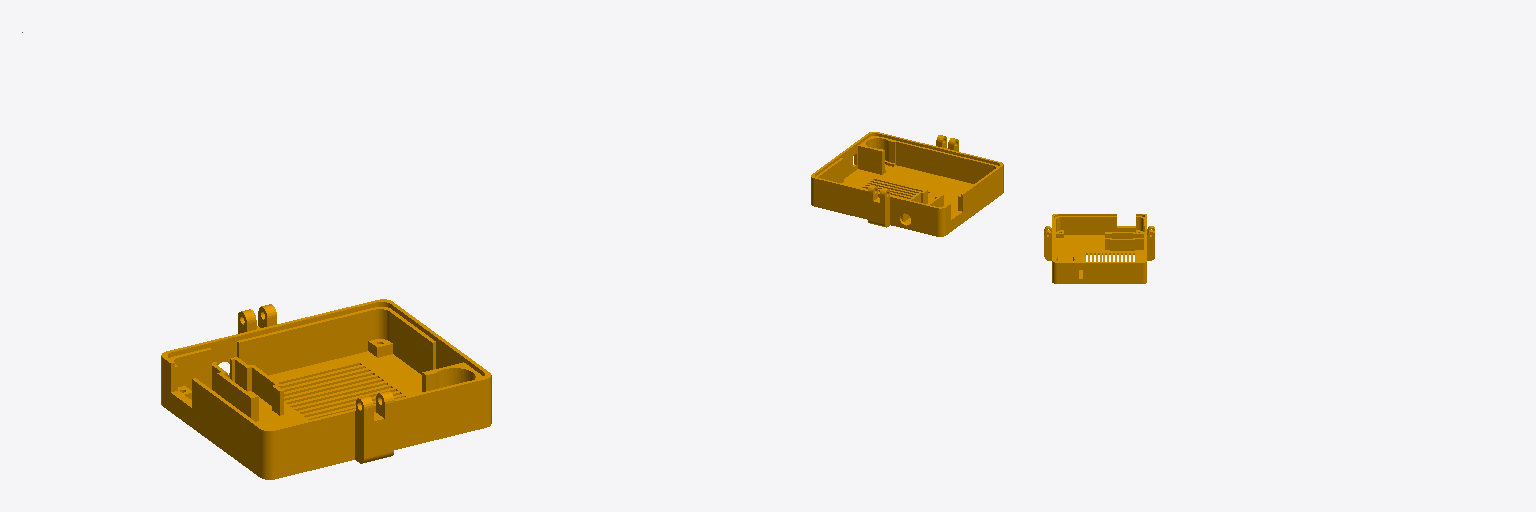
URDF robot description (centrifuge):
<robot name="centrifuge">
    <link name="base_footprint">
        <visual>
            <geometry>
                <mesh filename="meshes/V2_Body.stl"/>
            </geometry>
        </visual>
        <inertial>
            <origin
                xyz="0 0 0"
                rpy="0 0 0" />
            <mass value="0.1" />
            <inertia
                ixx="1"
                ixy="0"
                ixz="0"
                iyy="1"
                iyz="0"
                izz="1" />
        </inertial>
    </link>

    <link name="bookcase">
        <visual>
            <geometry>
                <mesh filename="bookcase.stl"/>
            </geometry>
        </visual>
        <collision>
            <geometry>
                <mesh filename="bookcase.stl"/>
            </geometry>
        </collision>
    </link>

    # Copied from wheels.urdf.
    <link name="r_wheel_link">
        <collision>
          <origin xyz="-0.0 -0.0025 0.0" />
          <geometry>
            <box size="0.04 0.005 0.48" />
          </geometry>
        </collision>
        <visual>
          <origin xyz="-0.0 -0.0025 0.0" />
          <material name="c">
            <color rgba="0.7 0.7 0.7 1.0" />
          </material>
          <geometry>
            <box size="0.04 0.005 0.48" />
          </geometry>
        </visual>
        <collision>
          <origin xyz="0.0 0.015 0.19625" />
          <geometry>
            <box size="0.02 0.03 0.0025" />
          </geometry>
        </collision>
        <visual>
          <origin xyz="0.0 0.015 0.19625" />
          <material name="c">
            <color rgba="0.7 0.7 0.7 1.0" />
          </material>
          <geometry>
            <box size="0.02 0.03 0.0025" />
          </geometry>
        </visual>
        <collision>
          <origin xyz="0.0 0.015 -0.19625" />
          <geometry>
            <box size="0.02 0.03 0.0025" />
          </geometry>
        </collision>
        <visual>
          <origin xyz="0.0 0.015 -0.19625" />
          <material name="c">
            <color rgba="0.7 0.7 0.7 1.0" />
          </material>
          <geometry>
            <box size="0.02 0.03 0.0025" />
          </geometry>
        </visual>
        <collision>
          <origin xyz="0.0 -0.0125 0.22" />
          <geometry>
            <cylinder length="0.015" radius="0.02" />
          </geometry>
        </collision>
        <visual>
          <origin xyz="0.0 -0.0125 0.22" />
          <material name="c">
            <color rgba="0.7 0.7 0.7 1.0" />
          </material>
          <geometry>
            <cylinder length="0.015" radius="0.02" />
          </geometry>
        </visual>
        <collision>
          <origin xyz="0.0 -0.0125 -0.22" />
          <geometry>
            <cylinder length="0.015" radius="0.02" />
          </geometry>
        </collision>
        <visual>
          <origin xyz="0.0 -0.0125 -0.22" />
          <material name="c">
            <color rgba="0.7 0.7 0.7 1.0" />
          </material>
          <geometry>
            <cylinder length="0.015" radius="0.02" />
          </geometry>
        </visual>
        <collision>
          <origin xyz="0.0 -0.075 -0.24" />
          <geometry>
            <cylinder length="0.026" radius="0.035" />
          </geometry>
        </collision>
        <visual>
          <origin xyz="0.0 -0.075 -0.24" />
          <material name="c2">
            <color rgba="1.0 1.0 1.0 1.0" />
          </material>
          <geometry>
            <cylinder length="0.026" radius="0.035" />
          </geometry>
        </visual>
        <collision>
          <origin xyz="0.0 -0.075 -0.24" />
          <geometry>
            <cylinder length="0.025" radius="0.0375" />
          </geometry>
        </collision>
        <visual>
          <origin xyz="0.0 -0.075 -0.24" />
          <material name="c3">
            <color rgba="0.5 0.5 0.5 1.0" />
          </material>
          <geometry>
            <cylinder length="0.025" radius="0.0375" />
          </geometry>
        </visual>
        <collision>
          <origin xyz="0.0 -0.045 -0.22" />
          <geometry>
            <box size="0.03 0.05 0.05" />
          </geometry>
        </collision>
        <visual>
          <origin xyz="0.0 -0.045 -0.22" />
          <material name="c">
            <color rgba="0.7 0.7 0.7 1.0" />
          </material>
          <geometry>
            <box size="0.03 0.05 0.05" />
          </geometry>
        </visual>
        <collision>
          <origin xyz="0.0 -0.075 0.24" />
          <geometry>
            <cylinder length="0.026" radius="0.035" />
          </geometry>
        </collision>
        <visual>
          <origin xyz="0.0 -0.075 0.24" />
          <material name="c2">
            <color rgba="1.0 1.0 1.0 1.0" />
          </material>
          <geometry>
            <cylinder length="0.026" radius="0.035" />
          </geometry>
        </visual>
        <collision>
          <origin xyz="0.0 -0.075 0.24" />
          <geometry>
            <cylinder length="0.025" radius="0.0375" />
          </geometry>
        </collision>
        <visual>
          <origin xyz="0.0 -0.075 0.24" />
          <material name="c3">
            <color rgba="0.5 0.5 0.5 1.0" />
          </material>
          <geometry>
            <cylinder length="0.025" radius="0.0375" />
          </geometry>
        </visual>
        <collision>
          <origin xyz="0.0 -0.045 0.22" />
          <geometry>
            <box size="0.03 0.05 0.05" />
          </geometry>
        </collision>
        <visual>
          <origin xyz="0.0 -0.045 0.22" />
          <material name="c">
            <color rgba="0.7 0.7 0.7 1.0" />
          </material>
          <geometry>
            <box size="0.03 0.05 0.05" />
          </geometry>
        </visual>
    </link>

    # Copied from wheels.urdf.
    <link name="l_wheel_link">
        <collision>
          <origin xyz="-0.0 -0.0025 0.0" />
          <geometry>
            <box size="0.04 0.005 0.48" />
          </geometry>
        </collision>
        <visual>
          <origin xyz="-0.0 -0.0025 0.0" />
          <material name="c">
            <color rgba="0.7 0.7 0.7 1.0" />
          </material>
          <geometry>
            <box size="0.04 0.005 0.48" />
          </geometry>
        </visual>
        <collision>
          <origin xyz="0.0 0.015 0.19625" />
          <geometry>
            <box size="0.02 0.03 0.0025" />
          </geometry>
        </collision>
        <visual>
          <origin xyz="0.0 0.015 0.19625" />
          <material name="c">
            <color rgba="0.7 0.7 0.7 1.0" />
          </material>
          <geometry>
            <box size="0.02 0.03 0.0025" />
          </geometry>
        </visual>
        <collision>
          <origin xyz="0.0 0.015 -0.19625" />
          <geometry>
            <box size="0.02 0.03 0.0025" />
          </geometry>
        </collision>
        <visual>
          <origin xyz="0.0 0.015 -0.19625" />
          <material name="c">
            <color rgba="0.7 0.7 0.7 1.0" />
          </material>
          <geometry>
            <box size="0.02 0.03 0.0025" />
          </geometry>
        </visual>
        <collision>
          <origin xyz="0.0 -0.0125 0.22" />
          <geometry>
            <cylinder length="0.015" radius="0.02" />
          </geometry>
        </collision>
        <visual>
          <origin xyz="0.0 -0.0125 0.22" />
          <material name="c">
            <color rgba="0.7 0.7 0.7 1.0" />
          </material>
          <geometry>
            <cylinder length="0.015" radius="0.02" />
          </geometry>
        </visual>
        <collision>
          <origin xyz="0.0 -0.0125 -0.22" />
          <geometry>
            <cylinder length="0.015" radius="0.02" />
          </geometry>
        </collision>
        <visual>
          <origin xyz="0.0 -0.0125 -0.22" />
          <material name="c">
            <color rgba="0.7 0.7 0.7 1.0" />
          </material>
          <geometry>
            <cylinder length="0.015" radius="0.02" />
          </geometry>
        </visual>
        <collision>
          <origin xyz="0.0 -0.075 -0.24" />
          <geometry>
            <cylinder length="0.026" radius="0.035" />
          </geometry>
        </collision>
        <visual>
          <origin xyz="0.0 -0.075 -0.24" />
          <material name="c2">
            <color rgba="1.0 1.0 1.0 1.0" />
          </material>
          <geometry>
            <cylinder length="0.026" radius="0.035" />
          </geometry>
        </visual>
        <collision>
          <origin xyz="0.0 -0.075 -0.24" />
          <geometry>
            <cylinder length="0.025" radius="0.0375" />
          </geometry>
        </collision>
        <visual>
          <origin xyz="0.0 -0.075 -0.24" />
          <material name="c3">
            <color rgba="0.5 0.5 0.5 1.0" />
          </material>
          <geometry>
            <cylinder length="0.025" radius="0.0375" />
          </geometry>
        </visual>
        <collision>
          <origin xyz="0.0 -0.045 -0.22" />
          <geometry>
            <box size="0.03 0.05 0.05" />
          </geometry>
        </collision>
        <visual>
          <origin xyz="0.0 -0.045 -0.22" />
          <material name="c">
            <color rgba="0.7 0.7 0.7 1.0" />
          </material>
          <geometry>
            <box size="0.03 0.05 0.05" />
          </geometry>
        </visual>
        <collision>
          <origin xyz="0.0 -0.075 0.24" />
          <geometry>
            <cylinder length="0.026" radius="0.035" />
          </geometry>
        </collision>
        <visual>
          <origin xyz="0.0 -0.075 0.24" />
          <material name="c2">
            <color rgba="1.0 1.0 1.0 1.0" />
          </material>
          <geometry>
            <cylinder length="0.026" radius="0.035" />
          </geometry>
        </visual>
        <collision>
          <origin xyz="0.0 -0.075 0.24" />
          <geometry>
            <cylinder length="0.025" radius="0.0375" />
          </geometry>
        </collision>
        <visual>
          <origin xyz="0.0 -0.075 0.24" />
          <material name="c3">
            <color rgba="0.5 0.5 0.5 1.0" />
          </material>
          <geometry>
            <cylinder length="0.025" radius="0.0375" />
          </geometry>
        </visual>
        <collision>
          <origin xyz="0.0 -0.045 0.22" />
          <geometry>
            <box size="0.03 0.05 0.05" />
          </geometry>
        </collision>
        <visual>
          <origin xyz="0.0 -0.045 0.22" />
          <material name="c">
            <color rgba="0.7 0.7 0.7 1.0" />
          </material>
          <geometry>
            <box size="0.03 0.05 0.05" />
          </geometry>
        </visual>
    </link>

    <joint
        name="base_to_l_wheel"
        type="fixed">
      <origin
          xyz="0.738 0.2 0.1125"
          rpy="1.57 0 0"/>
      <parent
          link="base_footprint" />
      <child
          link="l_wheel_link" />
    </joint>

    <joint
        name="base_to_bookcase"
        type="fixed">
      <origin
          xyz="0.0 0.0 0.1125" />
      <parent
          link="base_footprint" />
      <child
          link="bookcase" />
    </joint>

    <joint
        name="base_to_r_wheel"
        type="fixed">
      <origin
          xyz="0 0.2 0.1125"
          rpy="1.57 0 0" />
      <parent
          link="base_footprint" />
      <child
          link="r_wheel_link" />
    </joint>

</robot>

--- What the picture shows (computed from the rendered views, not written in the file) ---
Views: 3 orthographic renders of the robot side by side, from view 1: azimuth 30°, elevation 25°; view 2: azimuth 150°, elevation 25°; view 3: azimuth 270°, elevation 25°.
Model centrifuge with 4 links and 3 joints (3 fixed), rooted at base_footprint, posed every joint at zero.
Visible links, largest first — view 1: base_footprint; view 2: base_footprint; view 3: base_footprint.
Boxes of the visible links, box(x1,y1,x2,y2) form: base_footprint: box(161, 299, 491, 479); base_footprint: box(811, 132, 1003, 236); base_footprint: box(1044, 214, 1154, 283).
Bounding box of the posed robot: 146 × 479 × 35.04 m (x, y, z).
Meshes: 2 distinct files referenced, 1 mesh visuals loaded (1 binary STL); not drawn: 1 (reference not matched to a file when rendering).
